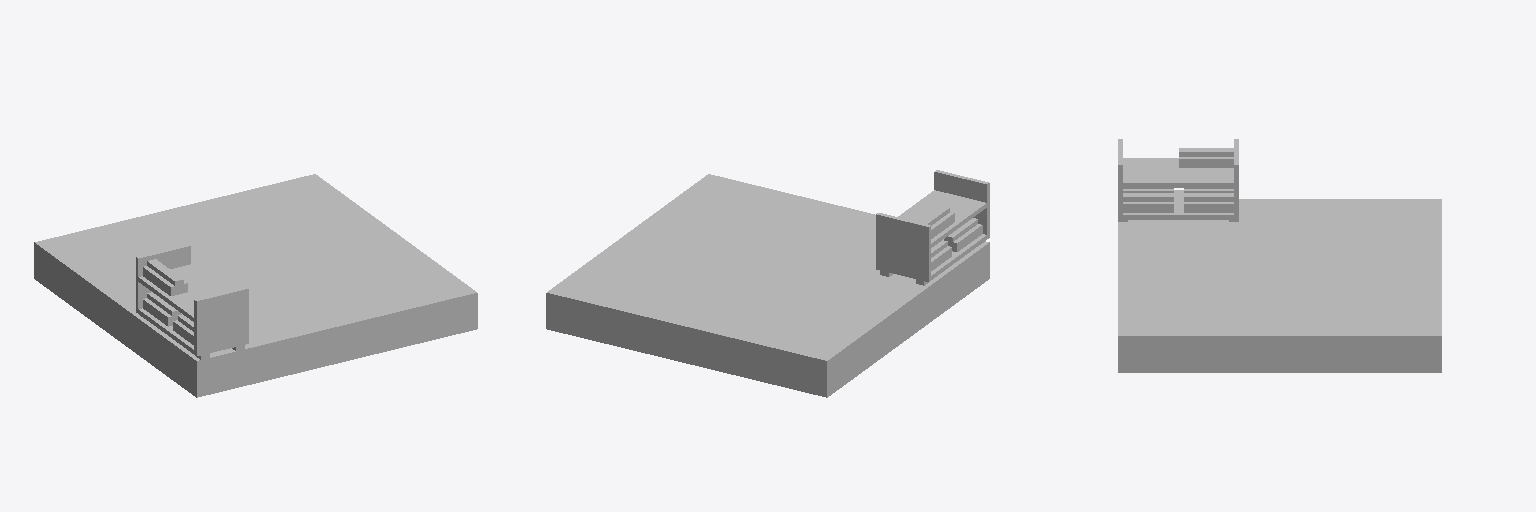
Rendered from Menu Obs-1.obj.
The picture shows the model from 3 angles: view 1: azimuth 30°, elevation 25°; view 2: azimuth 150°, elevation 25°; view 3: azimuth 270°, elevation 25°; orthographic projection.
Visible parts, largest first — view 1: Menu Obs-1; view 2: Menu Obs-1; view 3: Menu Obs-1.
Part boxes in pixels (left/top/right/bottom): Menu Obs-1: left=34, top=174, right=477, bottom=397; Menu Obs-1: left=546, top=170, right=989, bottom=397; Menu Obs-1: left=1118, top=139, right=1441, bottom=372.
Bounding box in the file's own units: 64 × 21 × 64.